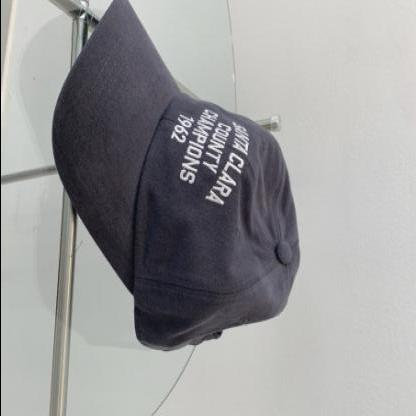cap: (45, 1, 308, 360)
